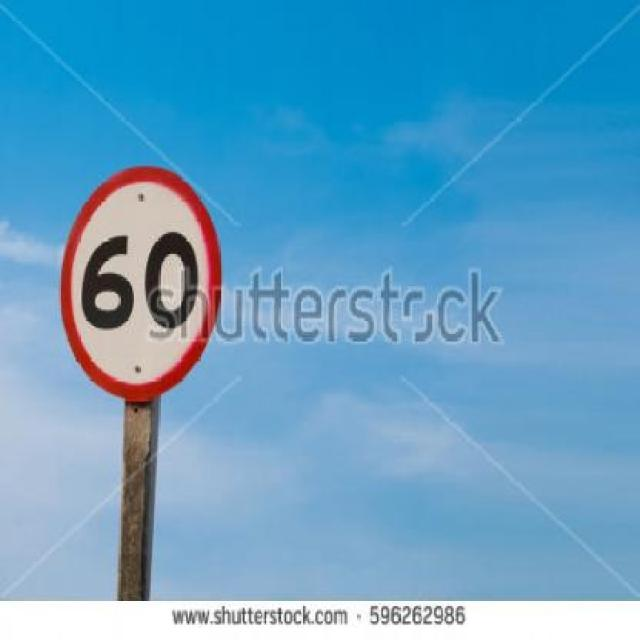forb_speed_over_60: (60, 164, 223, 398)
